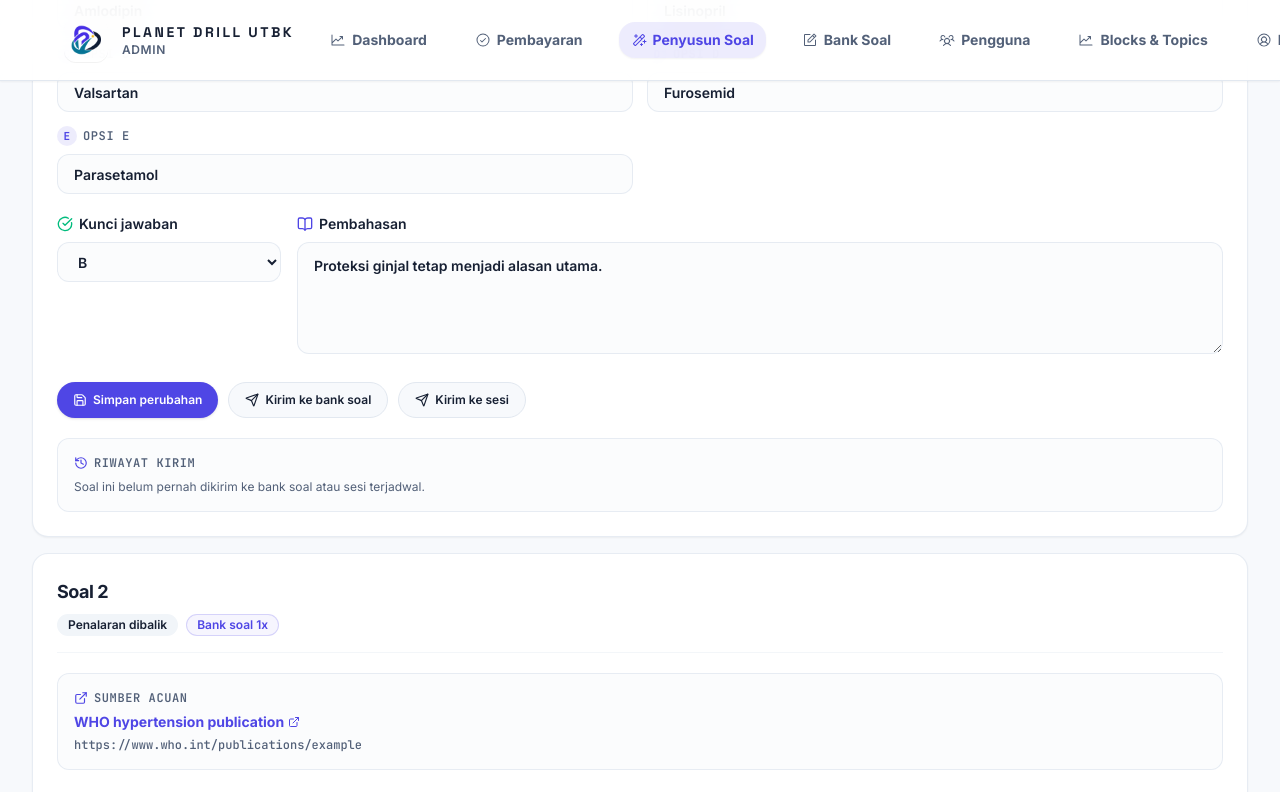
Admin question generator review page › opens scheduled-event delivery even while taxonomy is still unavailable
This screenshot has width=1280, height=792.
(page scrolled)
Click the button "Kirim ke sesi".
click(462, 400)  # box [398, 382, 526, 418]
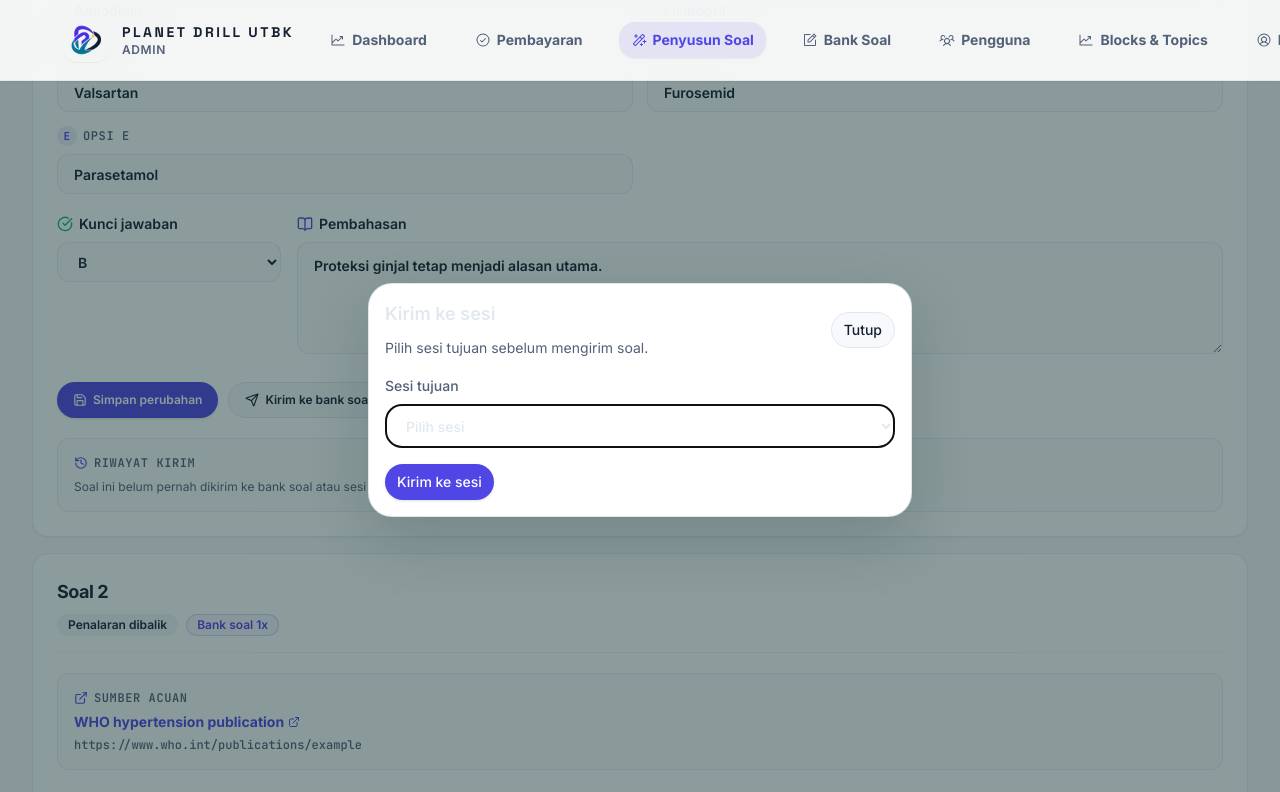
Expected: the dialog "Kirim ke sesi" is shown, [368, 283, 912, 517]
Expected: the dropdown labelled "Sesi tujuan" is shown, [385, 404, 895, 448]
